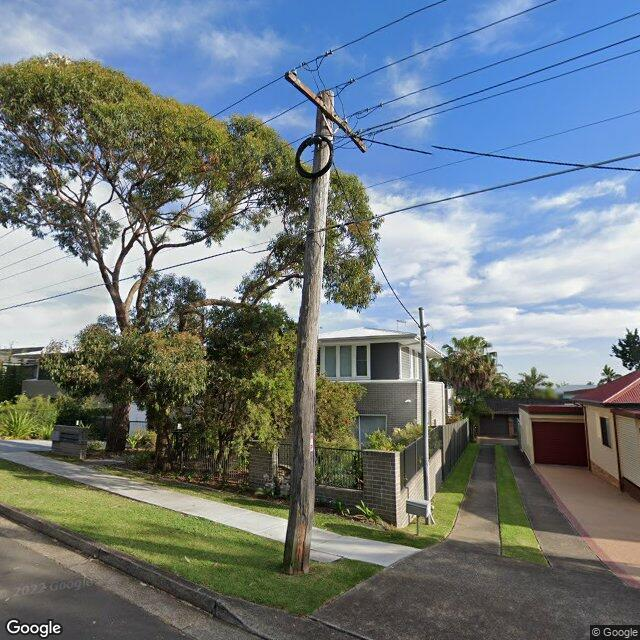crossarm: (284, 70, 368, 153)
steel-pole: (419, 307, 431, 525)
timber-pole: (282, 89, 336, 575)
